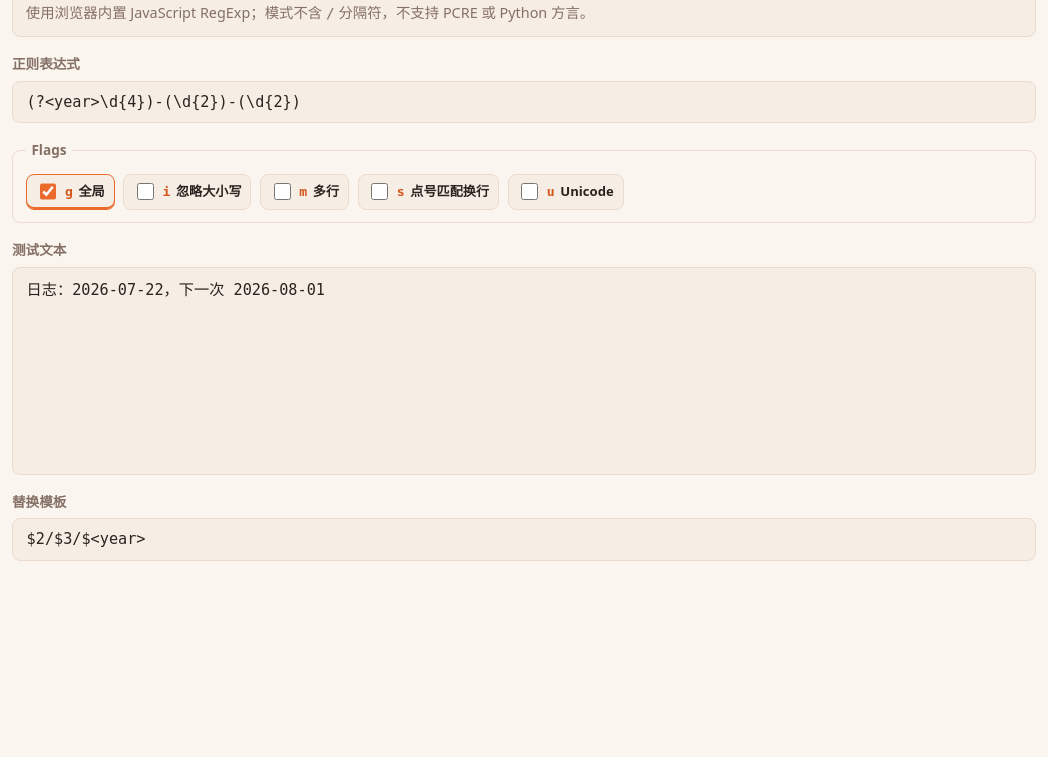
Test case: shows truncation, renders hostile input literally, and displays the JavaScript replacement preview
Replace the text in the text box labelled "测试文本" with "<img src=x> 2026-07-22" at point(524, 371), box [12, 267, 1036, 475]
Wait 250 ms
(page scrolled)
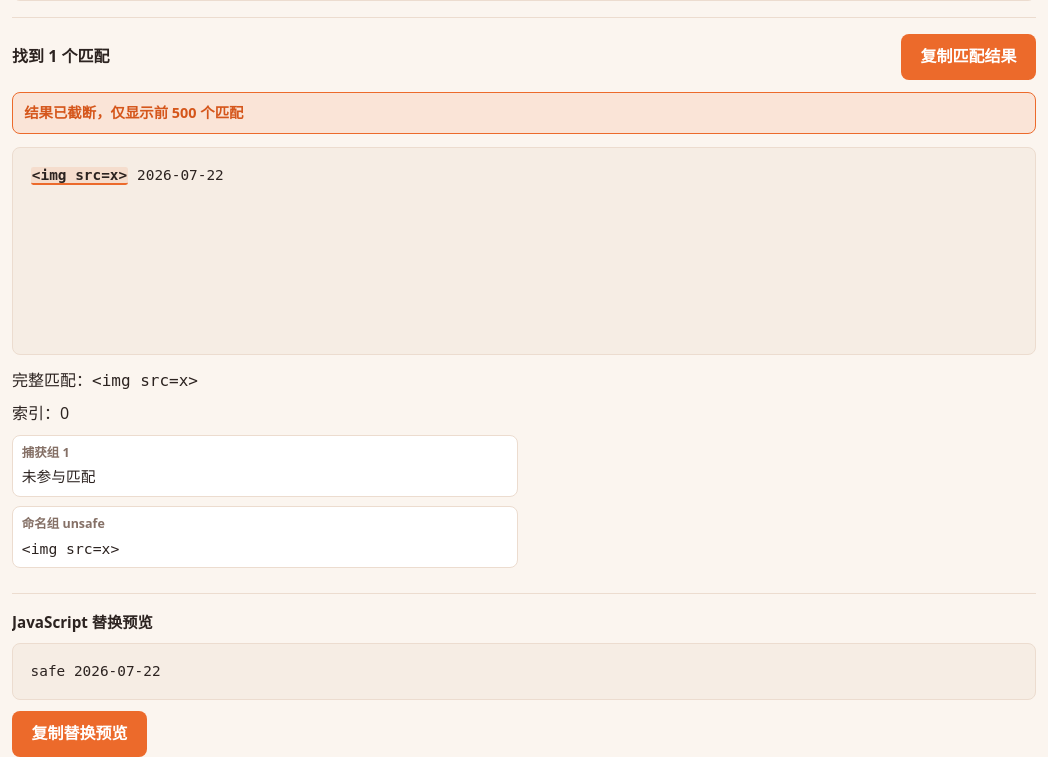
Check: the text "结果已截断，仅显示前 500 个匹配" is shown, box [12, 92, 1036, 134]
Check: the element named "匹配高亮" reads "<img src=x> 2026-07-22", box [12, 147, 1036, 355]
Check: the text named "JavaScript 替换预览" reads "safe 2026-07-22", box [31, 663, 161, 679]
